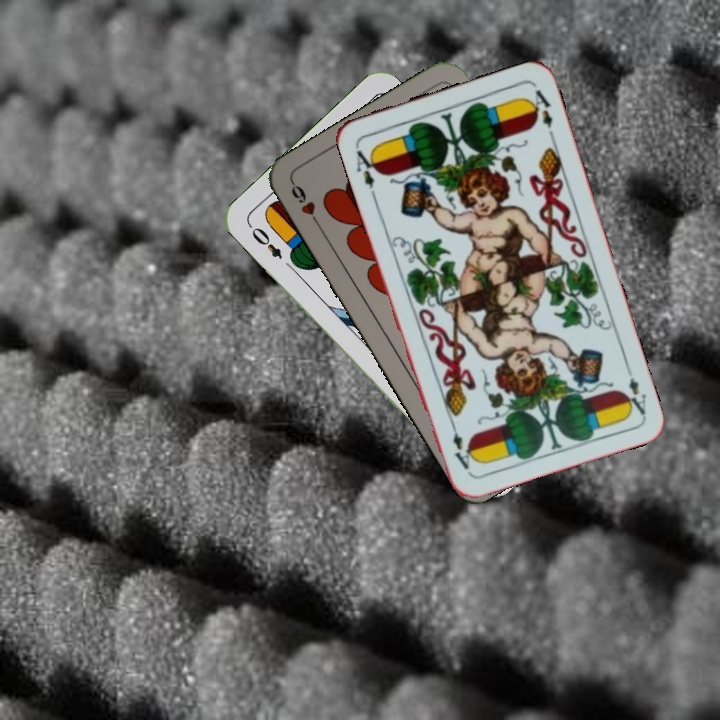EA: (620, 360, 649, 418), (352, 145, 382, 199)
EO: (248, 223, 285, 262)
H9: (287, 178, 325, 232)
